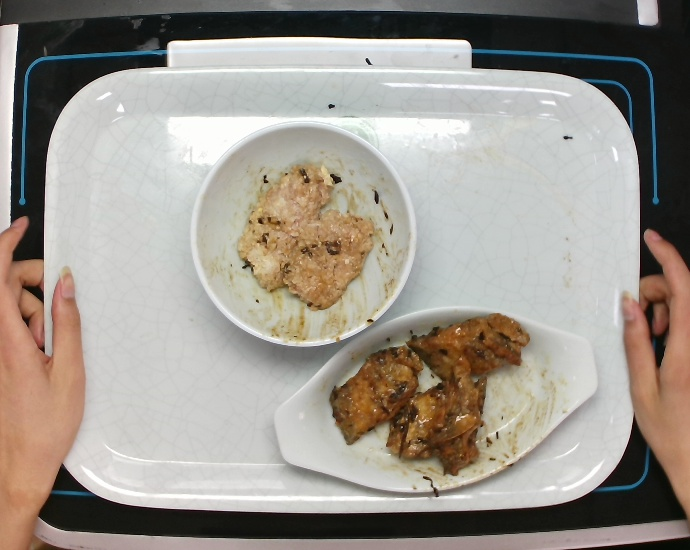JYsf-Fan_Wan: (182, 117, 425, 355)
JYsf-Yu_Pan: (261, 300, 611, 501)
